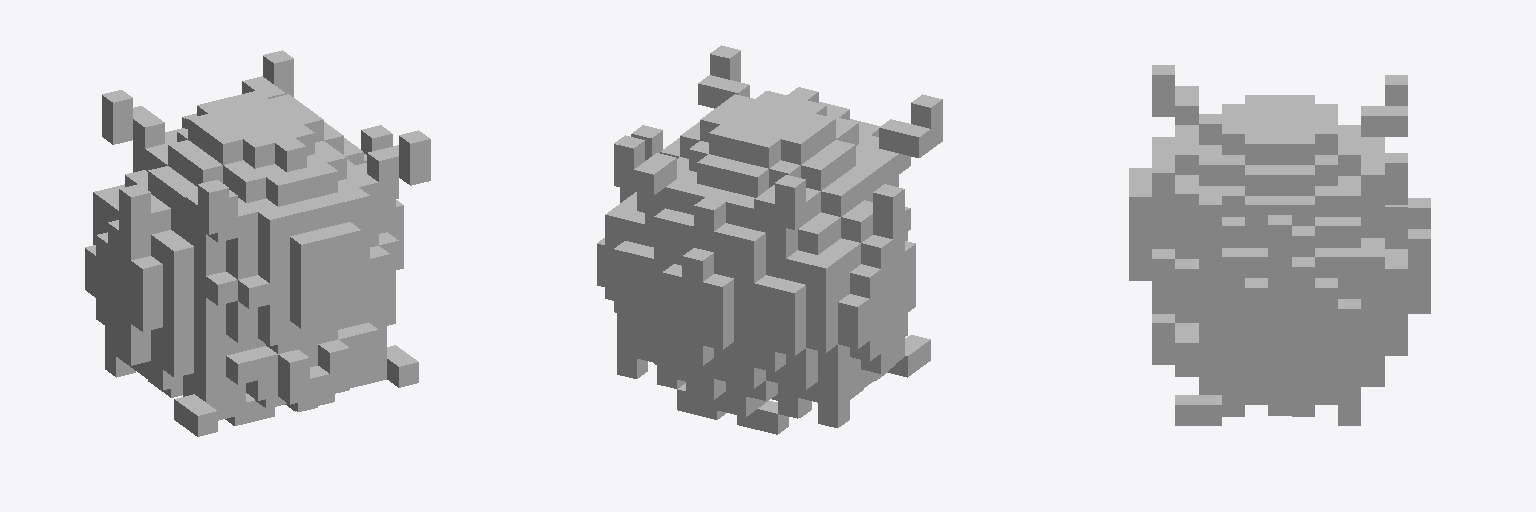
The model's file is 8-Bit CacoBATT1.obj.
The picture shows the model from 3 angles: view 1: azimuth 30°, elevation 25°; view 2: azimuth 150°, elevation 25°; view 3: azimuth 270°, elevation 25°; orthographic projection.
Size of the model in its own units: 13 by 13 by 13.